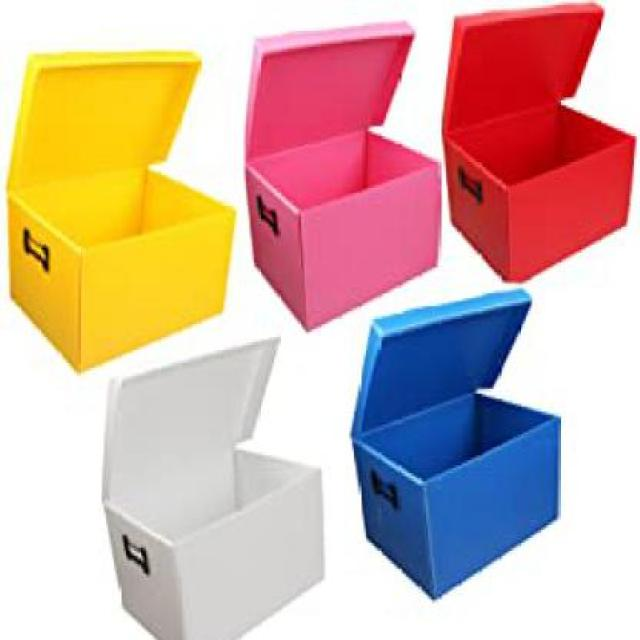box: (7, 21, 236, 379), (94, 329, 337, 640), (346, 279, 571, 614), (242, 15, 443, 333), (438, 5, 638, 285)
